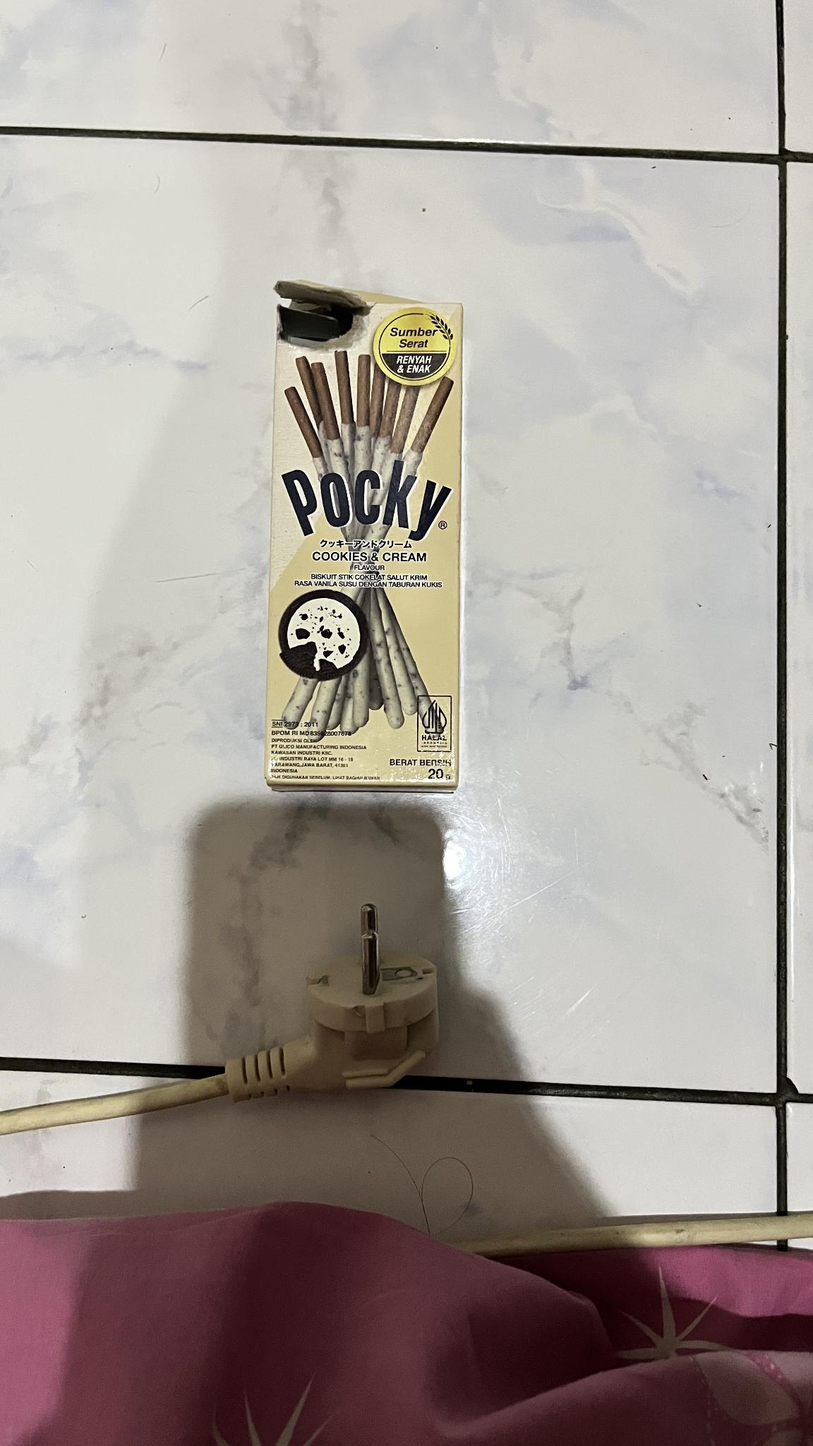Kertas: (265, 280, 462, 789)
